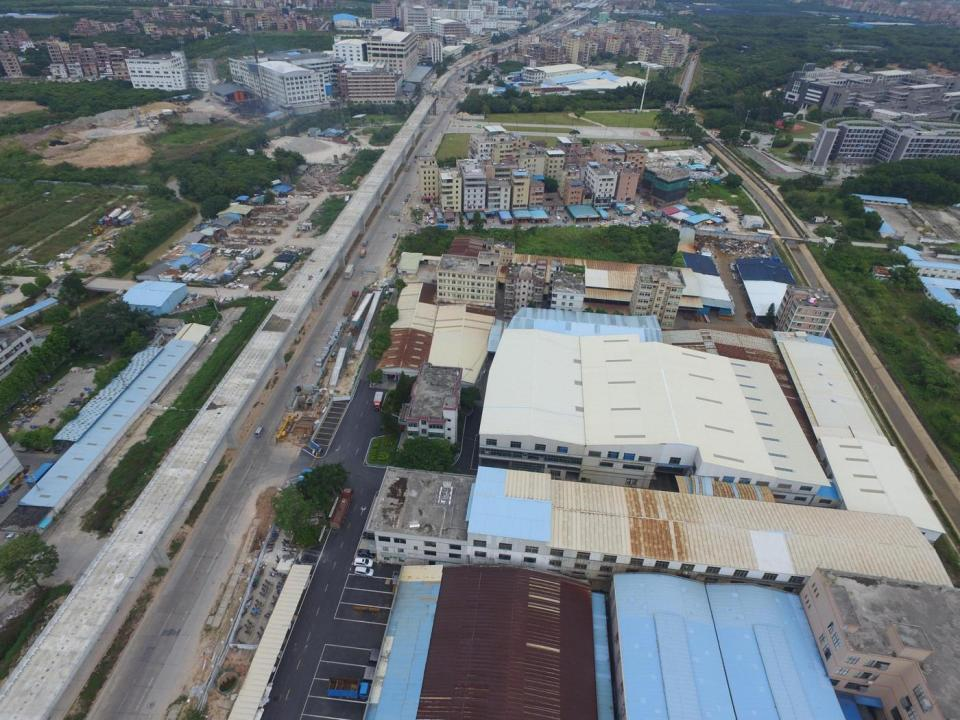bus: (404, 162, 412, 171), (454, 93, 458, 100)
car: (352, 556, 374, 568), (354, 565, 374, 577), (361, 530, 382, 540), (357, 548, 378, 557), (277, 200, 286, 205), (489, 224, 498, 229), (618, 222, 626, 227), (612, 219, 620, 224), (555, 214, 561, 220), (584, 224, 592, 228), (392, 232, 397, 238), (562, 218, 567, 224), (554, 224, 561, 228), (631, 224, 638, 228), (406, 192, 411, 197), (400, 202, 406, 206), (639, 197, 645, 201), (404, 198, 409, 202), (414, 154, 418, 159), (639, 200, 643, 204), (444, 108, 448, 112)
truck: (326, 675, 371, 701), (329, 488, 353, 530), (343, 289, 359, 316), (99, 206, 118, 226), (112, 210, 133, 228), (104, 208, 123, 226), (371, 390, 383, 412), (808, 214, 829, 224), (344, 264, 355, 278), (120, 219, 132, 227), (360, 248, 368, 259), (437, 223, 448, 230)
van: (254, 426, 265, 437), (630, 219, 641, 224), (362, 240, 368, 246), (642, 220, 649, 225), (450, 225, 458, 229)
